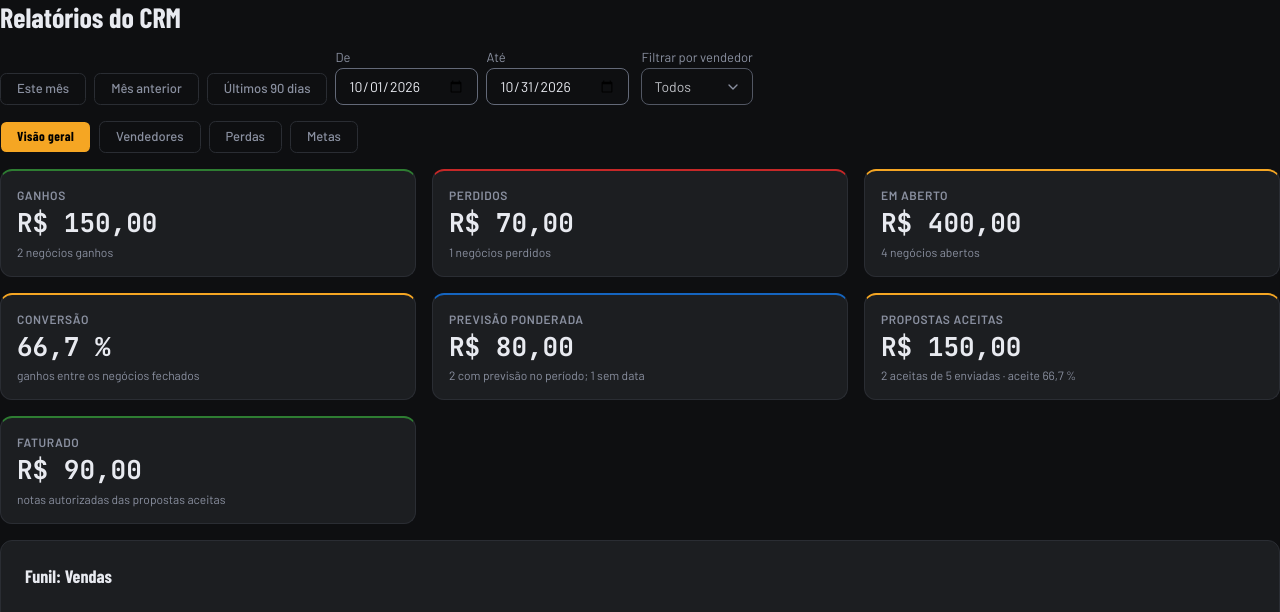
Test case: RelatoriosDoCrm › aba Perdas lista os motivos
Click the button "Perdas": (245, 137) [209,121,282,153]
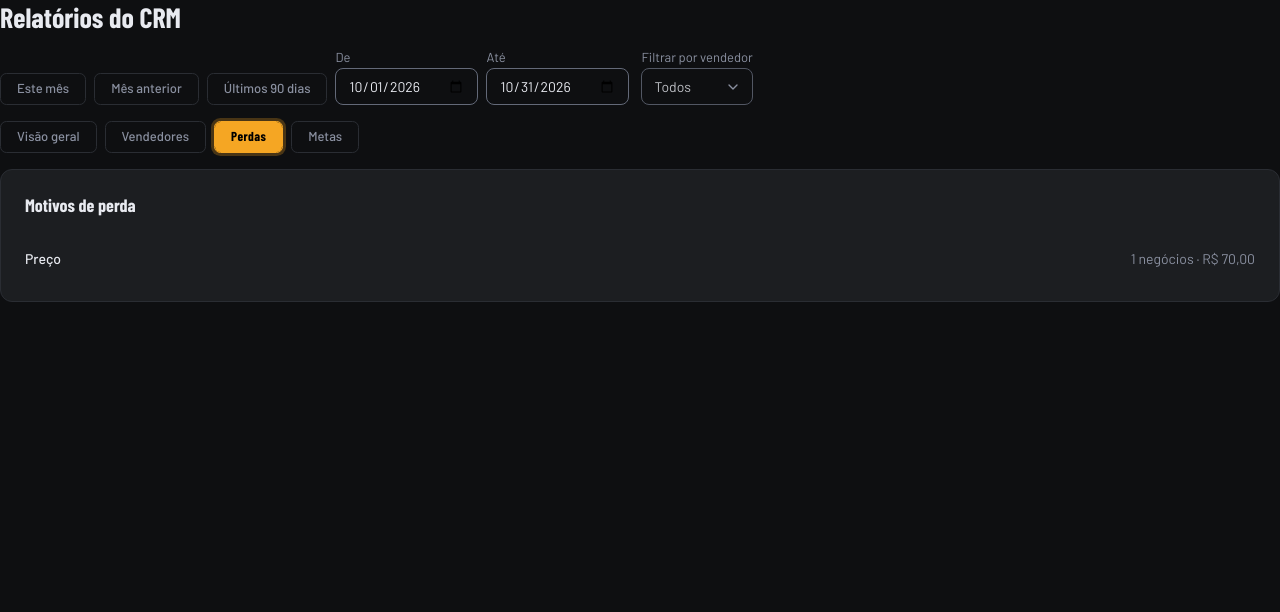
Expected: the text "Preço" is shown, [25,248,61,268]
